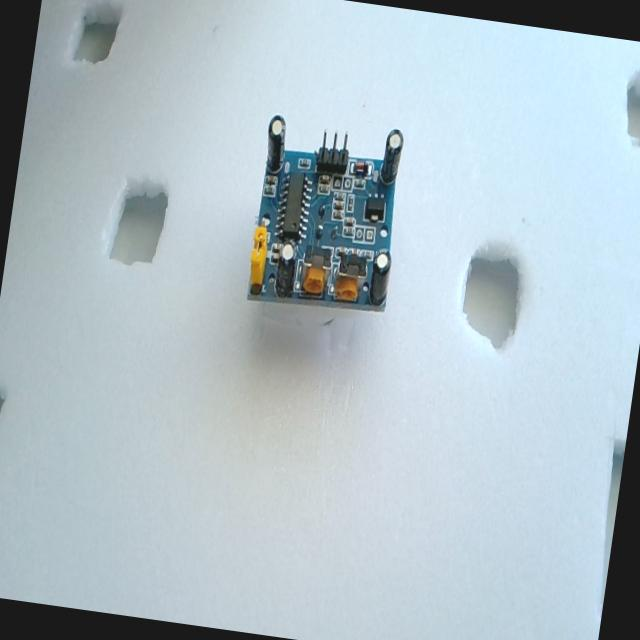Electrolytic capacitor: (262, 112, 290, 174), (379, 126, 406, 186), (273, 242, 299, 298), (368, 250, 393, 308)
IC: (273, 168, 314, 245)
pinheader: (313, 127, 351, 177)
